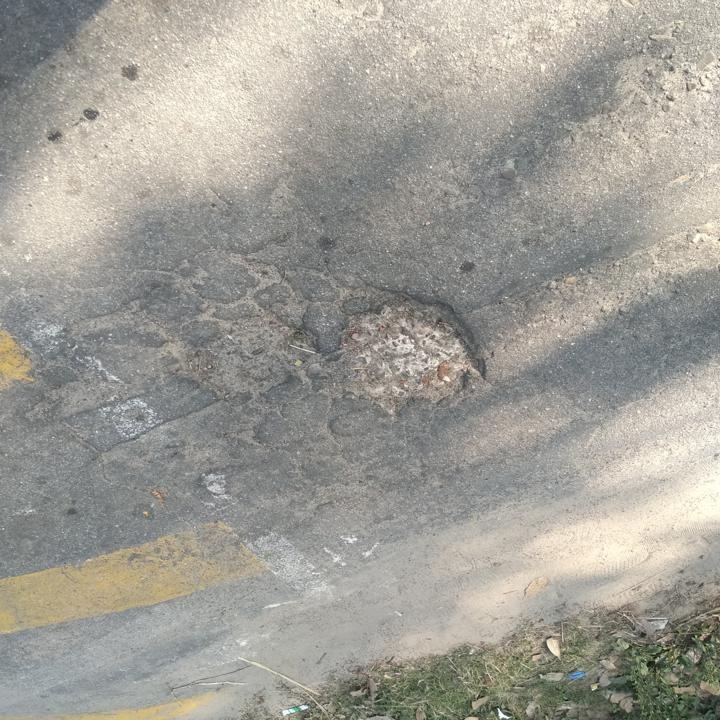pothole: (325, 288, 492, 418), (166, 308, 324, 403)
